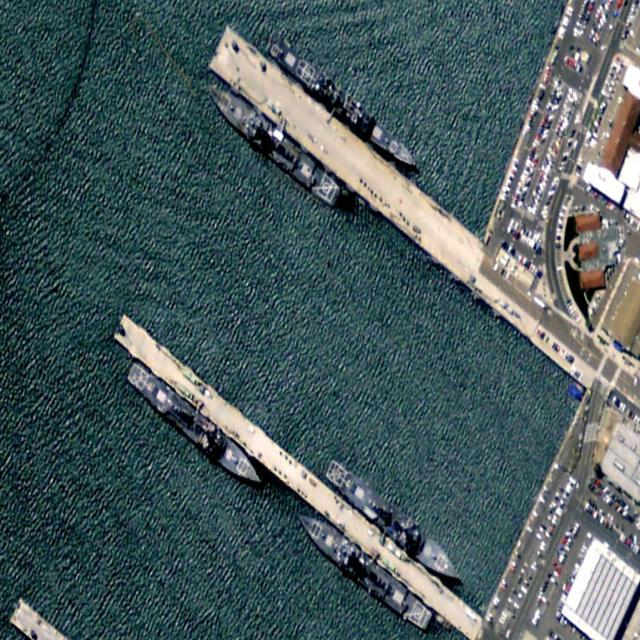Cruiser: (265, 32, 422, 173)
Destroyer: (320, 454, 467, 591), (203, 73, 344, 212), (122, 358, 266, 493), (291, 500, 434, 635)
